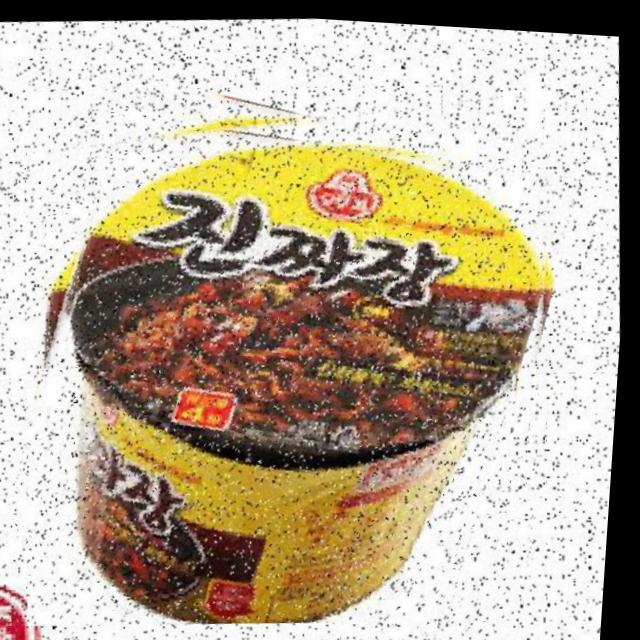Miscellaneous: (0, 58, 591, 640)
